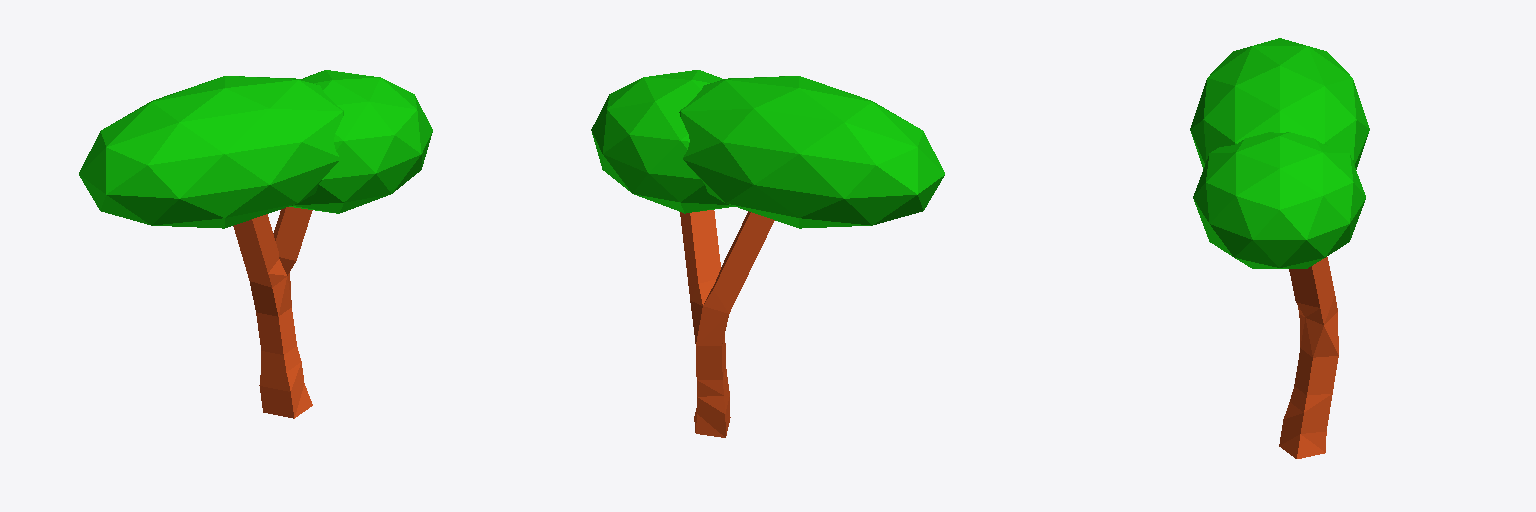
Rendered from tree3.obj.
The picture shows the model from 3 angles: view 1: azimuth 30°, elevation 25°; view 2: azimuth 150°, elevation 25°; view 3: azimuth 270°, elevation 25°; orthographic projection.
Visible parts, largest first — view 1: Cube_Cube.001; view 2: Cube_Cube.001; view 3: Cube_Cube.001.
Boxes of the visible parts, x1=… form: Cube_Cube.001: x1=79, y1=70, x2=432, y2=418; Cube_Cube.001: x1=591, y1=70, x2=944, y2=437; Cube_Cube.001: x1=1190, y1=38, x2=1369, y2=458.
Bounding box in the file's own units: 7.44 × 7.62 × 3.54.